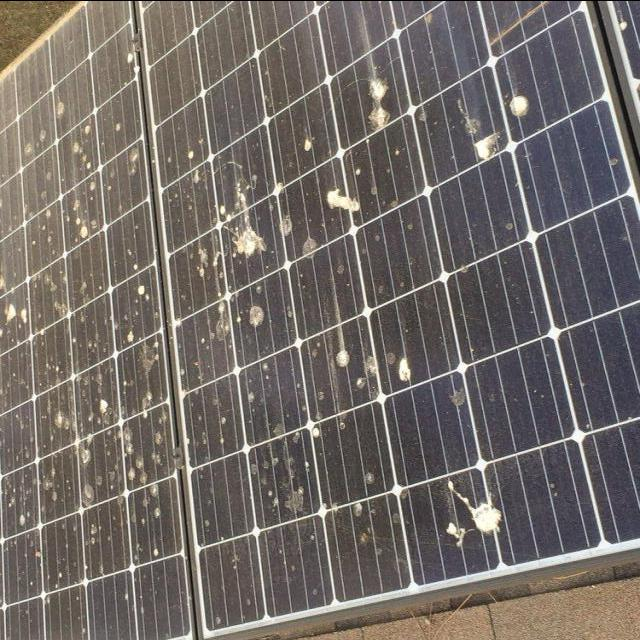soiled: (141, 3, 640, 638), (1, 7, 192, 640)
